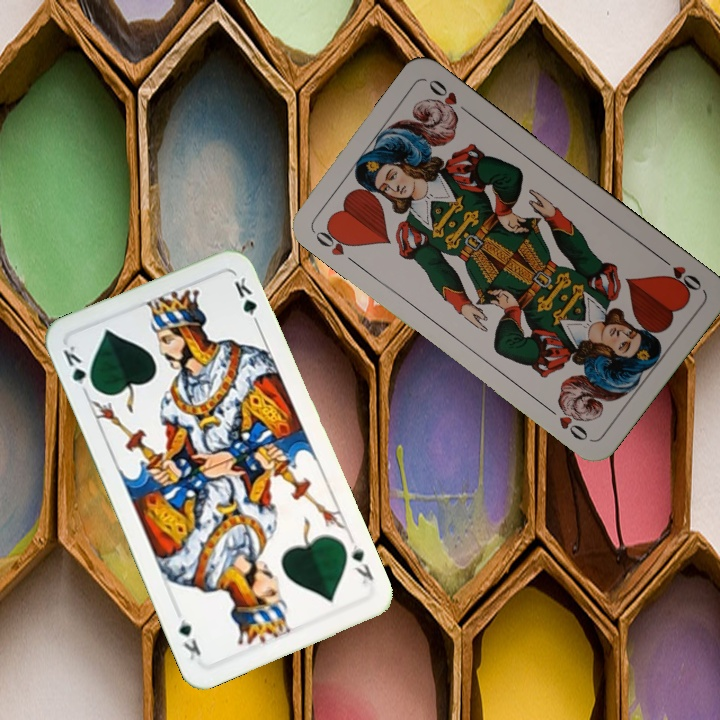GK: (58, 341, 98, 398), (347, 540, 376, 587)
HO: (309, 221, 360, 268), (655, 252, 705, 297)
